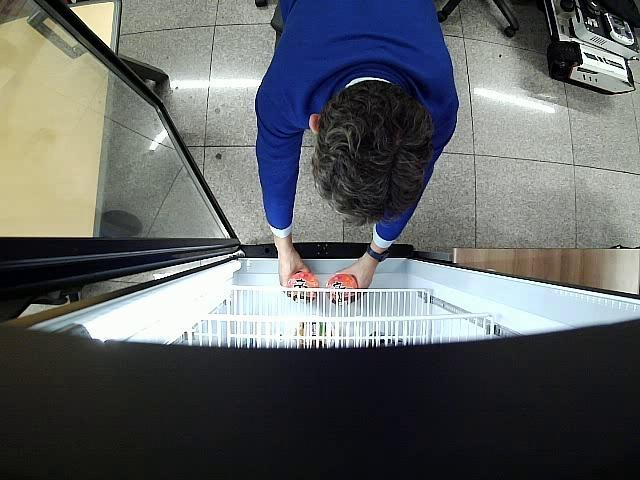02_shinRamen_S: (326, 272, 359, 306), (286, 272, 320, 304)
